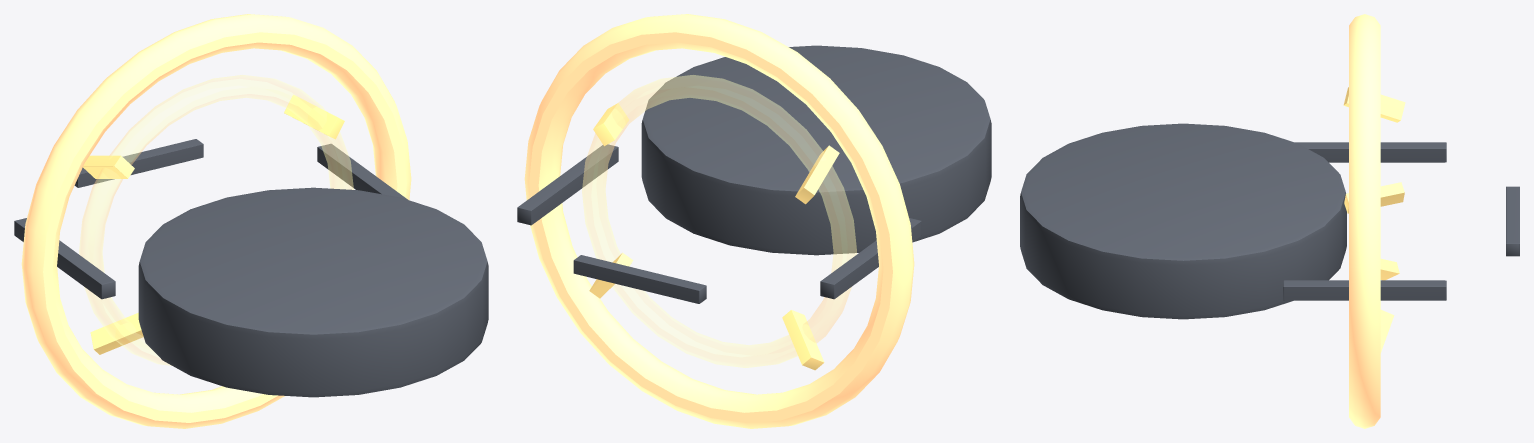
Rendered from broken_halo_portal.glb.
The picture shows the model from 3 angles, left to right: view 1: azimuth 30°, elevation 25°; view 2: azimuth 150°, elevation 25°; view 3: azimuth 270°, elevation 25°; orthographic projection. The views are drawn at different scales.
Parts seen in each view (by area): view 1: PortalBase, PortalRingOuter, PortalRingInner, PortalFrameTop, PortalFrameLeft, PortalFrameRight, PortalShard_225, PortalShard_35, PortalShard_145; view 2: PortalBase, PortalRingOuter, PortalRingInner, PortalFrameTop, PortalFrameRight, PortalFrameLeft, PortalShard_225, PortalShard_145, PortalShard_35, PortalShard_325; view 3: PortalBase, PortalRingOuter, PortalFrameRight, PortalFrameLeft, PortalFrameTop, PortalShard_145, PortalShard_35.
Part boxes in pixels (x1,y1,x2,y2): PortalBase: (138, 187, 488, 397); PortalRingOuter: (21, 14, 411, 428); PortalRingInner: (79, 75, 353, 365); PortalFrameTop: (74, 139, 203, 187); PortalFrameLeft: (14, 218, 115, 299); PortalFrameRight: (317, 144, 407, 199); PortalShard_225: (90, 312, 143, 354); PortalShard_35: (284, 95, 344, 139); PortalShard_145: (83, 155, 134, 178); PortalBase: (641, 45, 991, 255); PortalRingOuter: (524, 14, 914, 428); PortalRingInner: (582, 75, 856, 367); PortalFrameTop: (573, 255, 706, 303); PortalFrameRight: (517, 144, 618, 225); PortalFrameLeft: (820, 218, 921, 299); PortalShard_225: (782, 310, 824, 370); PortalShard_145: (795, 145, 839, 204); PortalShard_35: (593, 103, 628, 146); PortalShard_325: (589, 252, 633, 298); PortalBase: (1020, 123, 1346, 319); PortalRingOuter: (1349, 14, 1380, 428); PortalFrameRight: (1283, 280, 1446, 300); PortalFrameLeft: (1295, 142, 1446, 162); PortalFrameTop: (1506, 186, 1519, 256); PortalShard_145: (1343, 87, 1405, 122); PortalShard_35: (1344, 182, 1404, 213).
Bounding box in the file's own units: 3 × 3 × 3.61.
